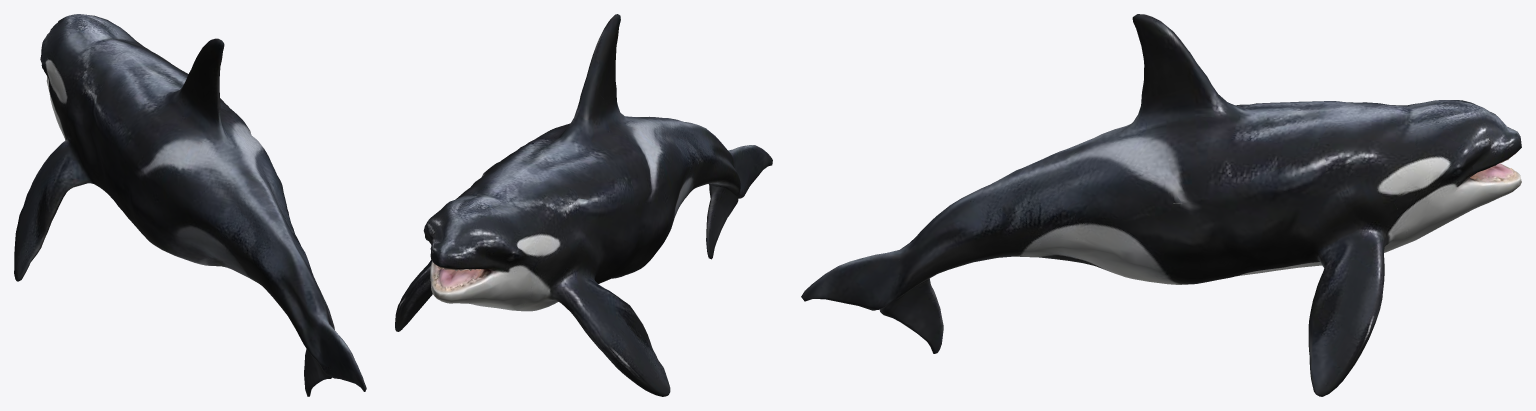
Rendered from orca.glb.
3 views of the same model, side by side, from view 1: azimuth 30°, elevation 25°; view 2: azimuth 150°, elevation 25°; view 3: azimuth 270°, elevation 25° (orthographic). The views are drawn at different scales.
Parts seen in each view (by area): view 1: tripo_node_17e9475c-6e13-4a5c-946b-144f01efe984; view 2: tripo_node_17e9475c-6e13-4a5c-946b-144f01efe984; view 3: tripo_node_17e9475c-6e13-4a5c-946b-144f01efe984.
Part boxes in pixels (bbox=[...]): tripo_node_17e9475c-6e13-4a5c-946b-144f01efe984: bbox=[14, 14, 366, 396]; tripo_node_17e9475c-6e13-4a5c-946b-144f01efe984: bbox=[395, 14, 772, 396]; tripo_node_17e9475c-6e13-4a5c-946b-144f01efe984: bbox=[801, 14, 1521, 396].
Size of the model in its own units: 0.4723 by 0.5206 by 1.
1 material, 1 textured.
